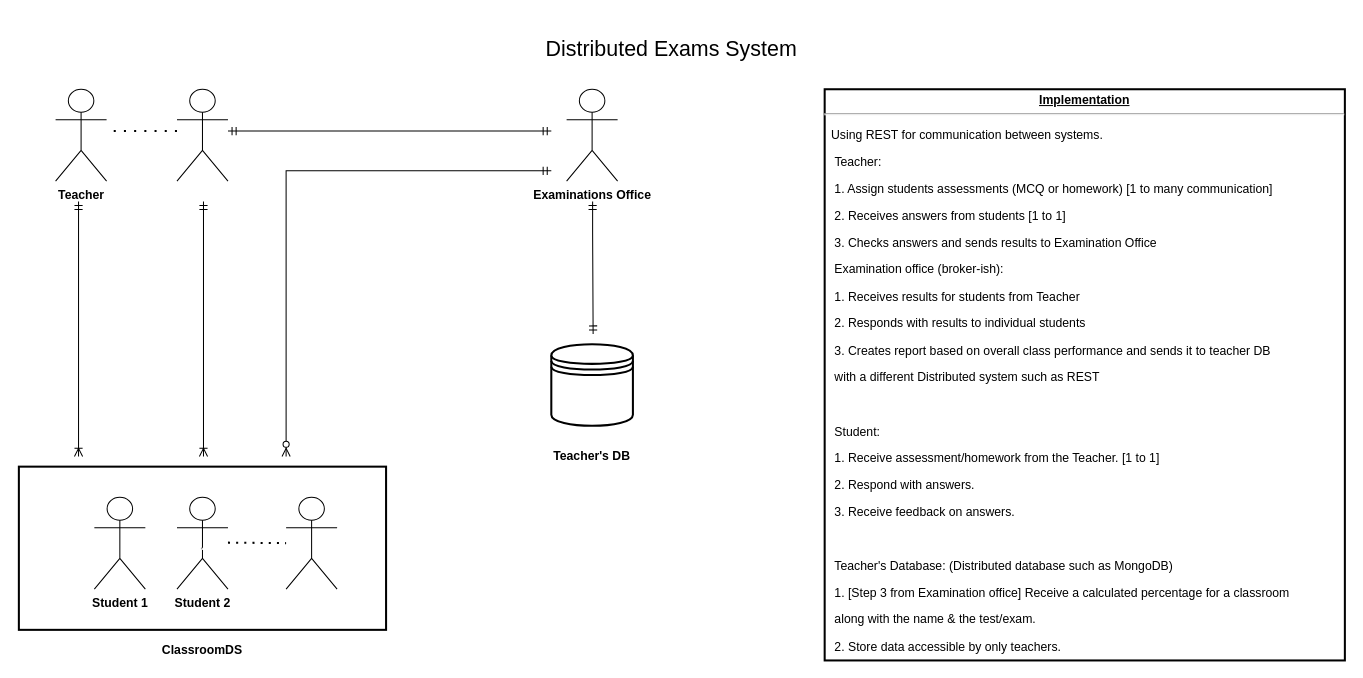
Image size: 1363x678. Some labels were removed from this diagram. Each missing label, with the centre of its shape:
Student n: the point at 311,542
Teacher n: the point at 202,134
